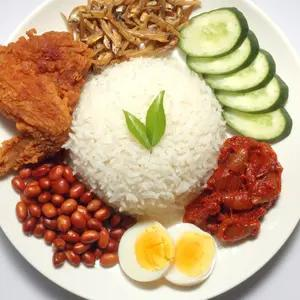Anchovies: (66, 0, 197, 67)
Boiled-Egg: (119, 221, 218, 289)
Cucumber: (178, 8, 293, 145)
Fried-Chicken: (0, 28, 94, 179)
Peanuts: (11, 165, 134, 266)
Rice: (65, 55, 230, 228)
Sambal: (181, 136, 283, 245)
